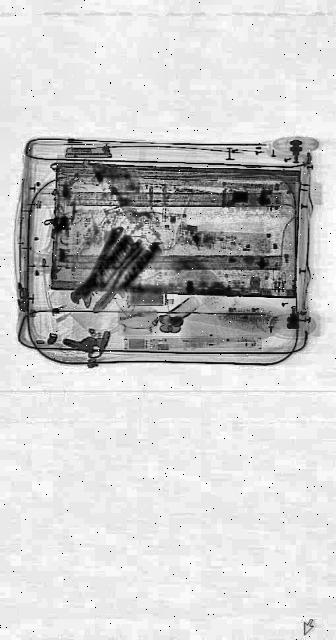Pliers: (86, 235, 150, 329)
Wrench: (69, 217, 125, 319)
